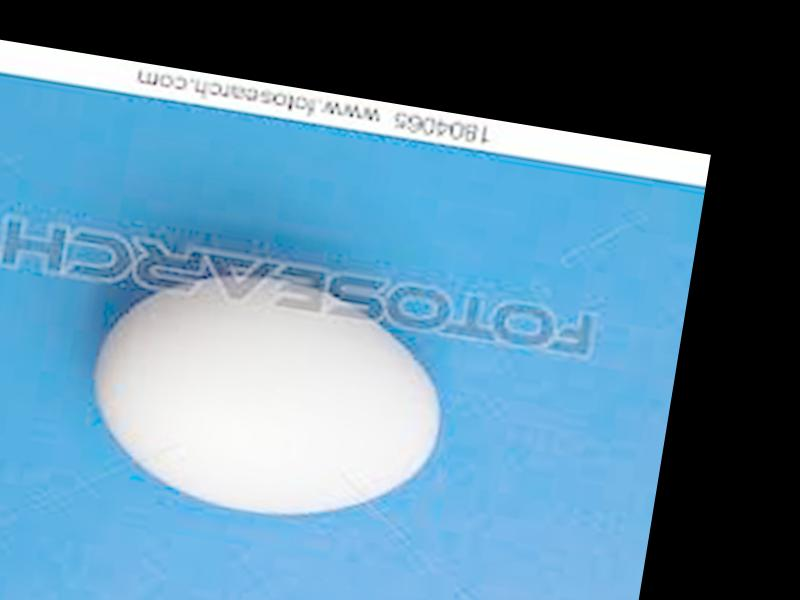Eggs: (78, 246, 458, 537)
